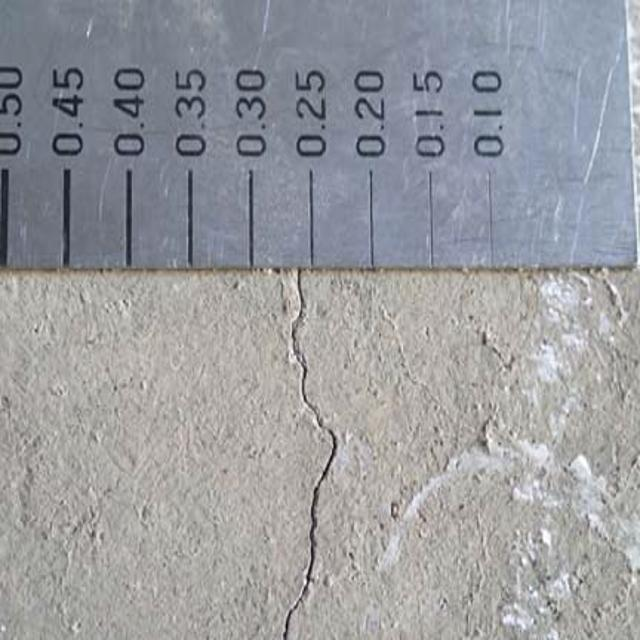crack: (262, 275, 367, 640)
